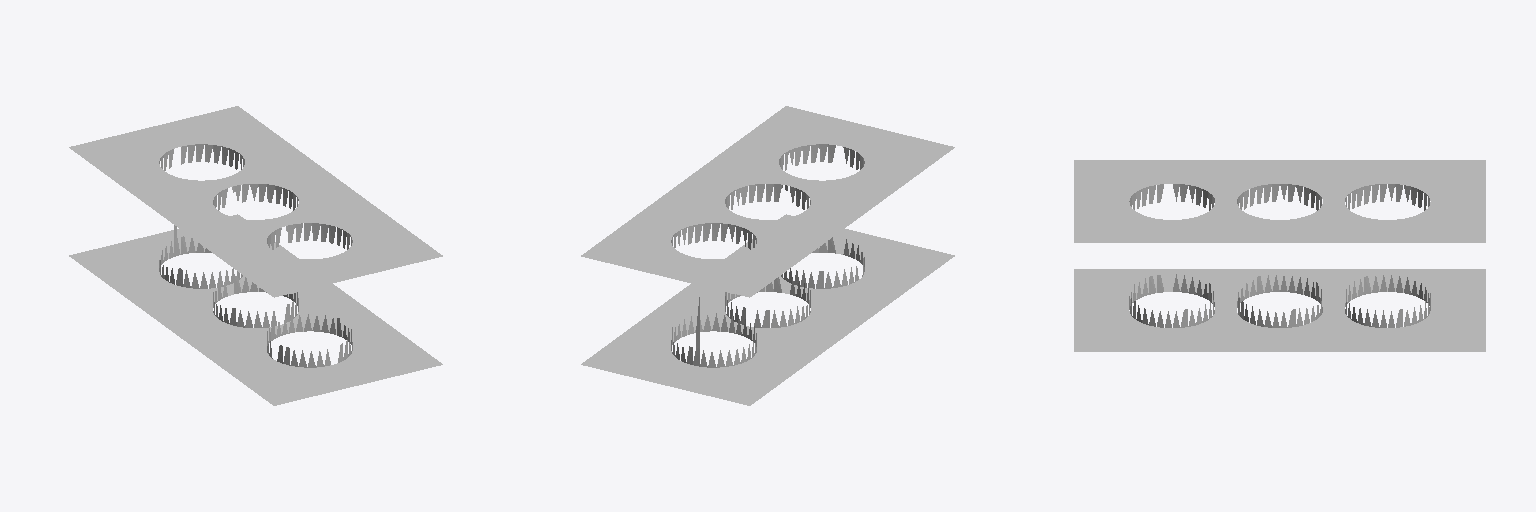
Rendered from 180709 Whole Brick.obj.
3 views of the same model, side by side, from view 1: azimuth 30°, elevation 25°; view 2: azimuth 150°, elevation 25°; view 3: azimuth 270°, elevation 25° (orthographic).
Size of the model in its own units: 0.1025 by 0.0625 by 0.215.